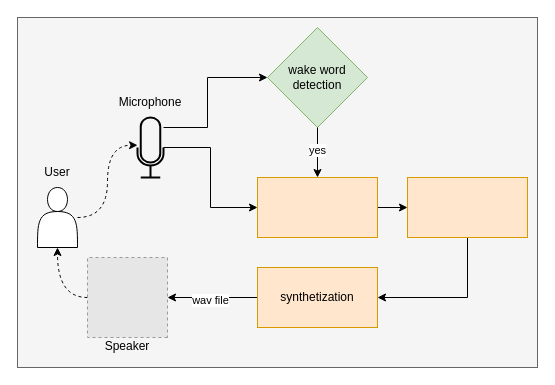
Some shapes in this 555 by 385 pixel diagram are drawn without their labels. Grey dashed boxes stand in for pictures. The shapes that lost their labels are listed below. From the top down, each one's centre as x and y in pixels, then its label:
At pixel 317 207: "transcription".
At pixel 467 207: "generating response".
